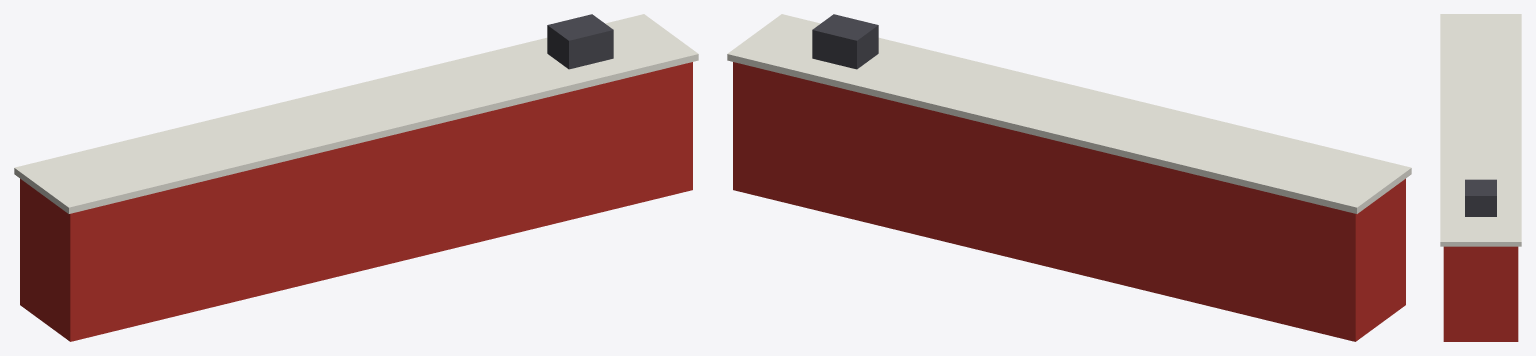
The model's file is counter.glb.
3 views of the same model, side by side, from view 1: azimuth 30°, elevation 25°; view 2: azimuth 150°, elevation 25°; view 3: azimuth 270°, elevation 25° (orthographic). The views are drawn at different scales.
Visible parts, largest first — view 1: Box1, Box2, Box3; view 2: Box1, Box2, Box3; view 3: Box2, Box1, Box3.
Part boxes in pixels (left/top/right/bottom): Box1: left=20, top=62, right=692, bottom=341; Box2: left=14, top=14, right=698, bottom=213; Box3: left=547, top=14, right=613, bottom=69; Box1: left=733, top=62, right=1405, bottom=341; Box2: left=727, top=14, right=1411, bottom=213; Box3: left=812, top=14, right=878, bottom=69; Box2: left=1440, top=14, right=1521, bottom=246; Box1: left=1443, top=246, right=1518, bottom=341; Box3: left=1465, top=179, right=1496, bottom=216.
Size of the model in its own units: 5.06 by 1.27 by 0.76.
